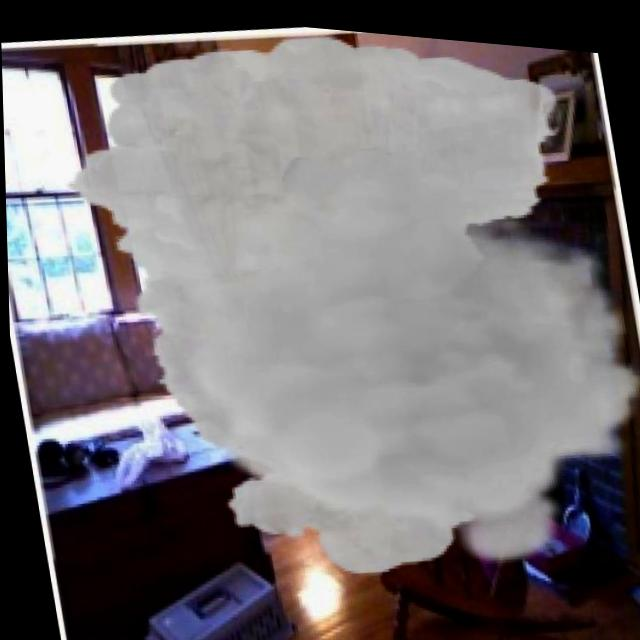no_helmet: (40, 25, 640, 585)
